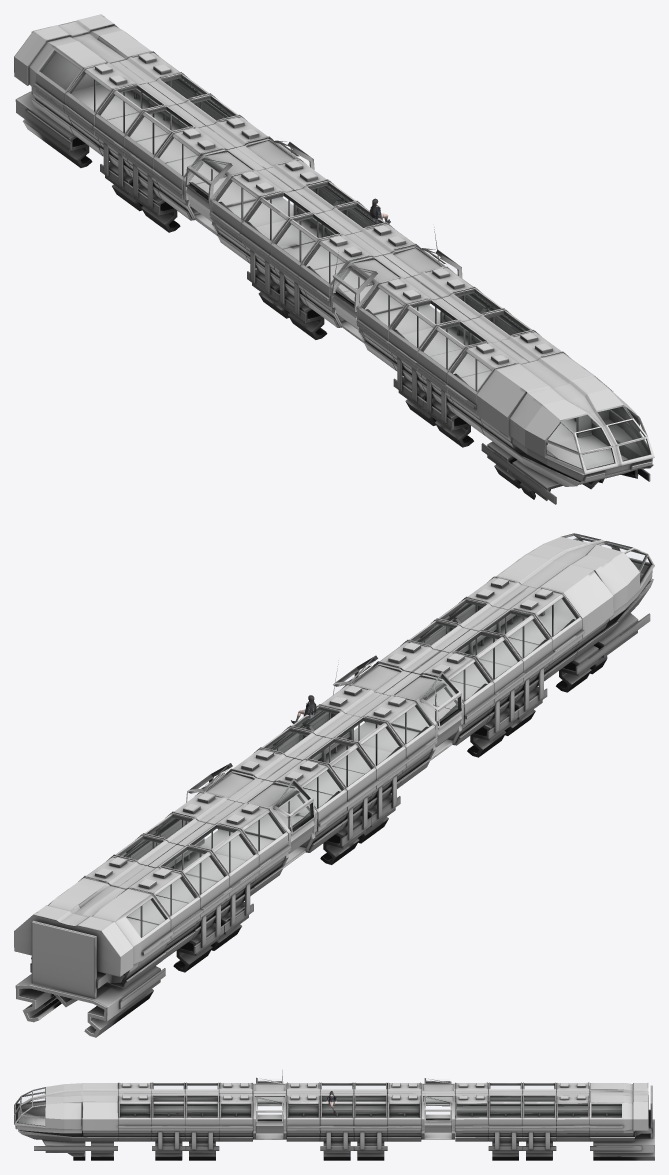
Rendered from trainAndChisa_static.glb.
The picture shows the model from 3 angles, top to bottom: view 1: azimuth 30°, elevation 25°; view 2: azimuth 150°, elevation 25°; view 3: azimuth 270°, elevation 25°; orthographic projection. The views are drawn at different scales.
Visible parts, largest first — view 1: Plane.016; view 2: Plane.016; view 3: Plane.016.
Boxes of the visible parts, x1,y1,x2,y2 form: Plane.016: [14, 14, 654, 504]; Plane.016: [14, 533, 654, 1037]; Plane.016: [14, 1070, 654, 1160].
Bounding box in the file's own units: 4.35 × 4.7 × 38.05.
9 materials, 8 textured.
